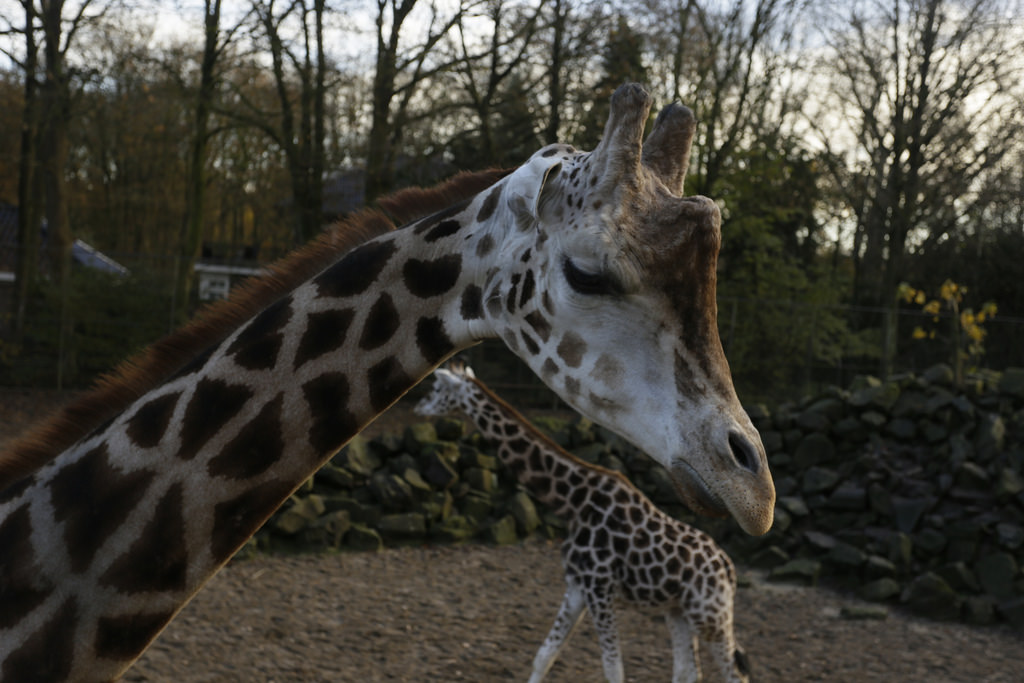giraffe: (24, 44, 784, 634)
